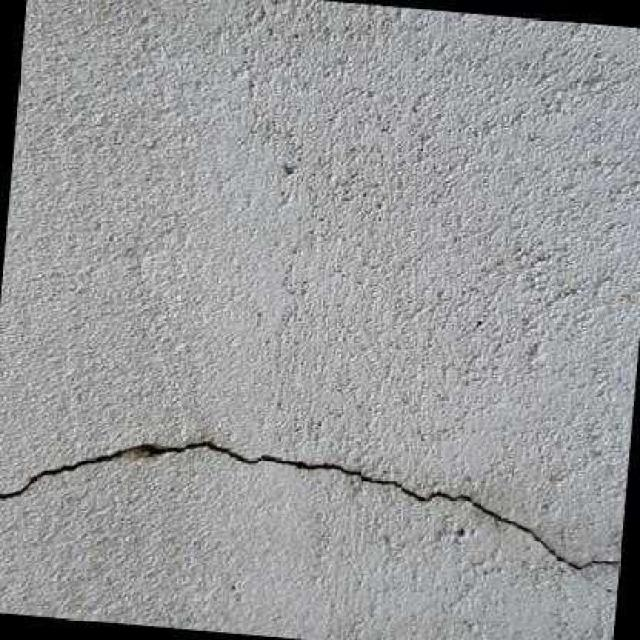D00: (0, 438, 621, 570)
